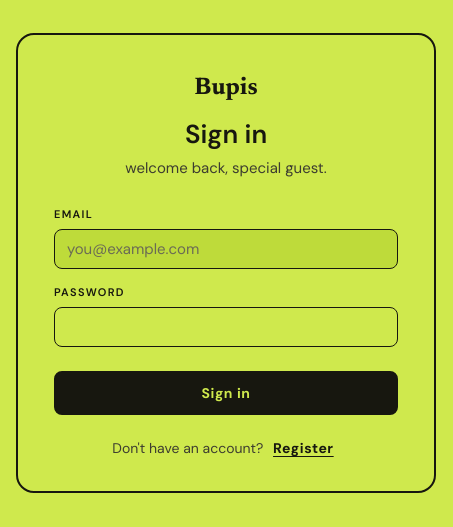
it: Login › shows the thrown Error message and resets loading on failed sign-in
This screenshot has width=453, height=527.
Type "a@b.com" into the field labelled "Email" at point(226, 249), box [54, 229, 398, 269]
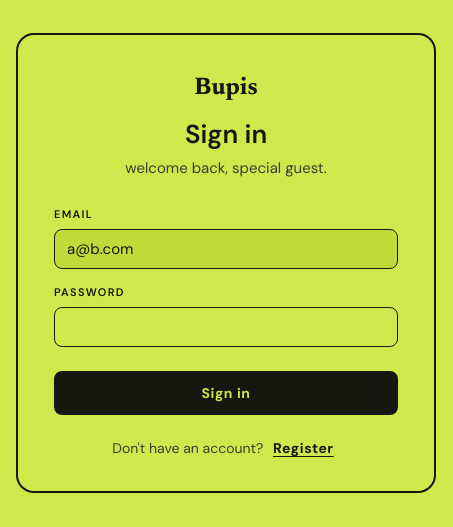
Type "password1" into the password field labelled "Password" at point(226, 327), box [54, 307, 398, 347]
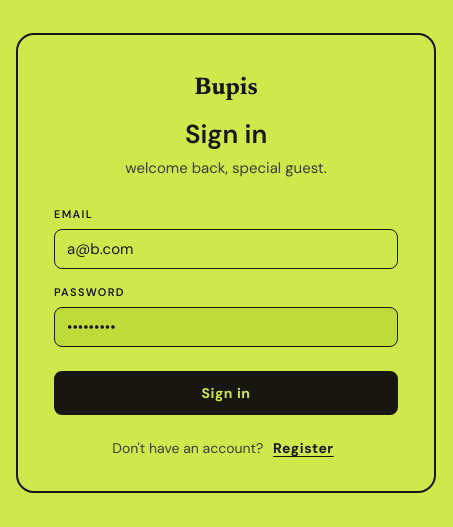
Click the button "Sign in" at point(226, 393), box [54, 371, 398, 415]
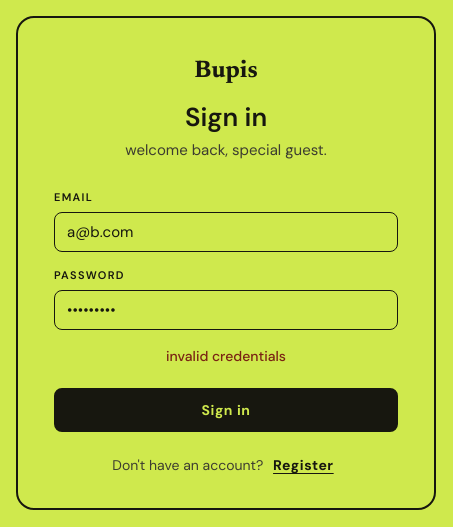
Expected: the button "Sign in" is enabled, [54, 388, 398, 432]
Now the text "invalid credentials" is shown, box [166, 347, 286, 365]
